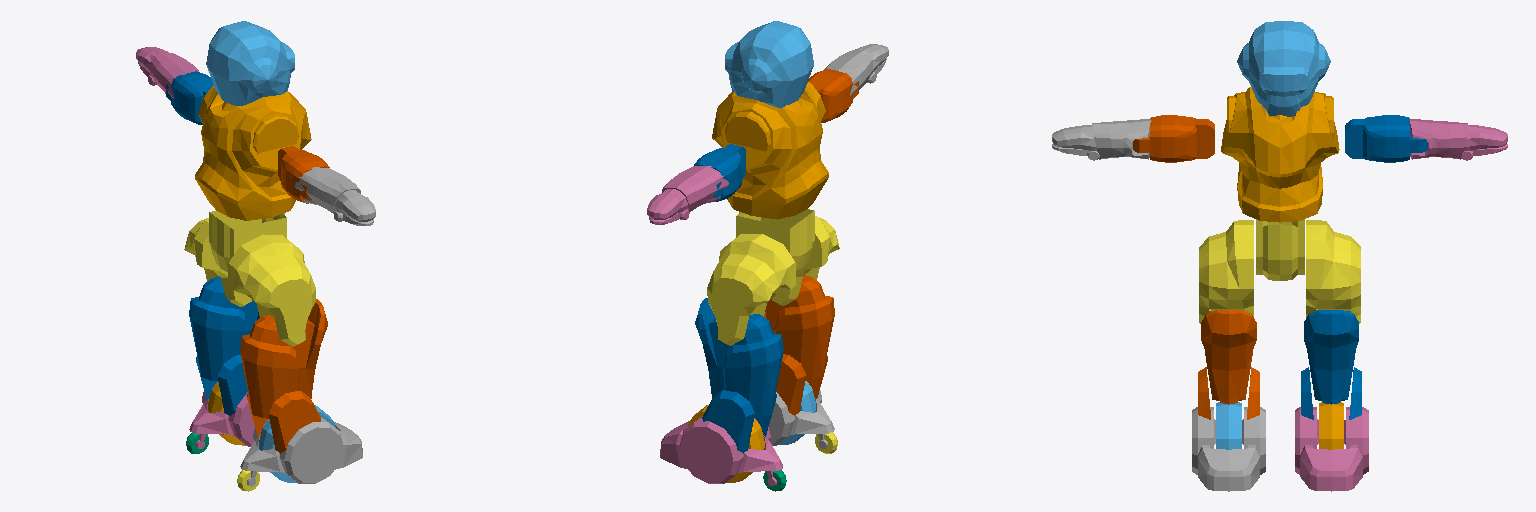
The robot description file, URDF, robot "servicebot":
<?xml version="1.0"?>
<robot name="servicebot">
  <!-- NOte: this doesnt follow REP 120 as this robot, while having a humanoid shape, will behave like a mobile base
-->
  <!--link name="base_link">
    <visual>
      <origin rpy="0 0 -1.5707963267948966" xyz="0 0 0"/>
      <geometry>
        <mesh filename="package://servicebot_description/meshes/servicebot.obj" scale="0.01 0.01 0.01" />
      </geometry>
    </visual>
  </link-->

  <!-- setting the base_link as the center of mass of the torso -->
  <link name="base_link">
    <visual>
      <geometry>
        <mesh filename="package://servicebot_description/meshes/Torso.obj" />
      </geometry>
    </visual>
    <collision>
      <origin rpy="0 0 0" xyz="0 0 -0.02"/>
      <geometry>
        <box size="0.32 0.3 0.32"/>
      </geometry>
    </collision>
    <collision>
      <origin rpy="0 0 0" xyz="0 0 0.18"/>
      <geometry>
        <cylinder radius="0.07" length="0.10"/>
      </geometry>
    </collision>
    <collision>
      <origin rpy="1.5707963267948966 0 0" xyz="-0.005 0.2 0.07"/>
      <geometry>
        <cylinder radius="0.1" length="0.10"/>
      </geometry>
    </collision>
    <collision>
      <origin rpy="1.5707963267948966 0 0" xyz="-0.005 -0.2 0.07"/>
      <geometry>
        <cylinder radius="0.1" length="0.10"/>
      </geometry>
    </collision>
    <inertial>
      <mass value="0.00001"/>
      <inertia ixx="1.0e-02" iyy="1.0e-06" izz="1.0e-06" ixy="0" ixz="0" iyz="0"/>
    </inertial>
  </link>

  <!--joint name="torso_fixedjoint" type="fixed">
    <axis xyz="0 0 1"/>
    <parent link="base_link"/>
    <child link="torso_link"/>
    <origin rpy="0 0 0" xyz="0 0.00486918 0.832498"/>
  </joint-->

  <link name="head_link">
    <visual>
      <geometry>
        <mesh filename="package://servicebot_description/meshes/Head.obj" />
      </geometry>
    </visual>
    <collision>
      <origin rpy="0 0 0" xyz="0.01 0 0"/>
      <geometry>
        <sphere radius="0.13"/>
      </geometry>
    </collision>
    <inertial>
      <mass value="0.5"/>
      <inertia ixx="0.00338" iyy="0.00338" izz="0.00338" ixy="0" ixz="0.0" iyz="0"/>
      <!--
      <mass value="1.0"/>
      <inertia ixx="0.00760589" iyy="0.01" izz="0.00760589" ixy="0" ixz="0.00649234" iyz="0"/>
      -->
      <!--mass value="0.5"/>
      <inertia ixx="0.00338" iyy="0.0" izz="0.00338" ixy="0" ixz="0.00338" iyz="0"/-->
    </inertial>
  </link>

  <joint name="head_tilt_joint" type="revolute">
    <axis xyz="0 -1 0"/>
    <parent link="head_pan_link"/>
    <child link="head_link"/>
    <origin rpy="0 0 0" xyz="0 0 0"/>
    <limit effort="30" velocity="1.0" lower="-0.7853981633974483" upper="0.7853981633974483" />
  </joint>

  <link name="head_pan_link">
    <!--inertial>
      <mass value="1.0"/>
      <inertia ixx="0.00760589" iyy="0.01" izz="0.00760589" ixy="0" ixz="0.00649234" iyz="0"/>
    </inertial-->
    <inertial>
      <mass value="0.5"/>
      <!-- box model -->
      <!--inertia ixx="0.0046" iyy="0.0" izz="0.0046" ixy="0" ixz="0.0046" iyz="0"/-->
      <!-- sphere model -->
      <inertia ixx="0.00338" iyy="0.00338" izz="0.00338" ixy="0" ixz="0.0" iyz="0"/>
      <!--mass value="1.0"/>
      <inertia ixx="0.00760589" iyy="0.01" izz="0.00760589" ixy="0" ixz="0.00649234" iyz="0"/-->
    </inertial>
    <!--inertial>
      <mass value="0.0001"/>
      <inertia ixx="1.0e-06" iyy="1.0e-06" izz="1.0e-06" ixy="0" ixz="0" iyz="0"/>
    </inertial-->
  </link>

  <joint name="head_pan_joint" type="revolute">
    <axis xyz="0 0 -1"/>
    <parent link="base_link"/>
    <child link="head_pan_link"/>
    <origin rpy="0 0 0" xyz="0 0.009 0.250" />
    <limit effort="30" velocity="1.0" lower="-1.5707963267948966" upper="1.5707963267948966" />
  </joint>

  <link name="pelvis_link">
    <visual>
      <geometry>
        <mesh filename="package://servicebot_description/meshes/Pelvis.obj" />
      </geometry>
    </visual>
    <collision>
      <origin rpy="0 0 0" xyz="0 0 0.05"/>
      <geometry>
        <cylinder radius="0.11" length="0.20"/>
      </geometry>
    </collision>
    <collision>
      <origin rpy="0 0 0" xyz="0 0.12 -0.02"/>
      <geometry>
        <cylinder radius="0.12" length="0.26"/>
      </geometry>
    </collision>
    <collision>
      <origin rpy="0 0 0" xyz="0 -0.12 -0.02"/>
      <geometry>
        <cylinder radius="0.12" length="0.26"/>
      </geometry>
    </collision>
    <inertial>
      <mass value="0.001"/>
      <inertia ixx="1.0e-02" iyy="1.0e-06" izz="1.0e-06" ixy="0" ixz="0" iyz="0"/>
    </inertial>
  </link>

  <joint name="pelvis_fixedjoint" type="fixed">
    <parent link="base_link"/>
    <child link="pelvis_link"/>
    <origin rpy="0 0 0" xyz="0 0.00 -0.286"/>
  </joint>

  <link name="left_upper_leg_link">
    <visual>
      <geometry>
        <mesh filename="package://servicebot_description/meshes/Calf_Left.obj" />
      </geometry>
    </visual>
    <collision>
      <origin rpy="0 0 0" xyz="0 0 0.03"/>
      <geometry>
        <cylinder radius="0.12" length="0.3"/>
      </geometry>
    </collision>
    <inertial>
      <mass value="0.001"/>
      <inertia ixx="1.0e-02" iyy="1.0e-06" izz="1.0e-06" ixy="0" ixz="0" iyz="0"/>
    </inertial>
  </link>

  <joint name="left_upper_leg_fixedjoint" type="fixed">
    <parent link="pelvis_link"/>
    <child link="left_upper_leg_link"/>
    <origin rpy="0 0 0" xyz="0.019 0.125 -0.256"/>
  </joint>


  <link name="right_upper_leg_link">
    <visual>
      <geometry>
        <mesh filename="package://servicebot_description/meshes/Calf_Right.obj" />
      </geometry>
    </visual>
    <collision>
      <origin rpy="0 0 0" xyz="0 0 0.03"/>
      <geometry>
        <cylinder radius="0.12" length="0.3"/>
      </geometry>
    </collision>
    <inertial>
      <mass value="0.001"/>
      <inertia ixx="1.0e-02" iyy="1.0e-06" izz="1.0e-06" ixy="0" ixz="0" iyz="0"/>
    </inertial>
  </link>

  <joint name="right_upper_leg_fixedjoint" type="fixed">
    <parent link="pelvis_link"/>
    <child link="right_upper_leg_link"/>
    <origin rpy="0 0 0" xyz="0.019 -0.125 -0.256"/>
  </joint>


  <link name="left_foot_link">
    <visual>
      <origin rpy="0 0 0" xyz="0.015 0 -0.004"/>
      <geometry>
        <mesh filename="package://servicebot_description/meshes/CasterBracket_Left.obj" />
      </geometry>
    </visual>
    <collision>
      <geometry>
        <box size="0.35 0.2 0.15" />
      </geometry>
    </collision>
    <inertial>
      <mass value="0.001"/>
      <inertia ixx="1.0e-02" iyy="1.0e-06" izz="1.0e-06" ixy="0" ixz="0" iyz="0"/>
    </inertial>
  </link>

  <joint name="left_foot_fixedjoint" type="fixed">
    <parent link="left_upper_leg_link"/>
    <child link="left_foot_link"/>
    <origin rpy="0 0 0" xyz="0.041 0 -0.19"/>
  </joint>

  <link name="right_foot_link">
    <visual>
      <origin rpy="0 0 0" xyz="0.015 0 -0.004"/>
      <geometry>
        <mesh filename="package://servicebot_description/meshes/CasterBracket_Left.obj" />
      </geometry>
    </visual>
    <collision>
      <geometry>
        <box size="0.35 0.2 0.15" />
      </geometry>
    </collision>
    <inertial>
      <mass value="0.001"/>
      <inertia ixx="1.0e-02" iyy="1.0e-06" izz="1.0e-06" ixy="0" ixz="0" iyz="0"/>
    </inertial>
  </link>

  <joint name="right_foot_fixedjoint" type="fixed">
    <parent link="right_upper_leg_link"/>
    <child link="right_foot_link"/>
    <origin rpy="0 0 0" xyz="0.041 0 -0.19"/>
  </joint>

<!-- Wheels -->

  <link name="left_wheel_link">
    <visual>
      <geometry>
        <mesh filename="package://servicebot_description/meshes/Wheel_Left.obj" />
      </geometry>
    </visual>
    <collision>
      <geometry>
        <sphere radius="0.103"/>
      </geometry>
    </collision>
    <inertial>
      <mass value="0.3"/>
      <inertia iyy="0.00211023" izz="0.00142144" ixx="0.00142144" ixy="0" ixz="0" iyz="0"/>
    </inertial>
  </link>

  <joint name="left_wheel_joint" type="continuous">
    <axis xyz="0 1 0"/>
    <parent link="left_foot_link"/>
    <child link="left_wheel_link"/>
    <origin rpy="0 0 0" xyz="0 0 0"/>
  </joint>

  <link name="right_wheel_link">
    <visual>
      <geometry>
        <mesh filename="package://servicebot_description/meshes/Wheel_Left.obj" />
      </geometry>
    </visual>
    <collision>
      <geometry>
        <sphere radius="0.103"/>
      </geometry>
    </collision>
    <inertial>
      <mass value="0.3"/>
      <inertia iyy="0.00211023" izz="0.00142144" ixx="0.00142144" ixy="0" ixz="0" iyz="0"/>
    </inertial>
  </link>

  <joint name="right_wheel_joint" type="continuous">
    <axis xyz="0 1 0"/>
    <parent link="right_foot_link"/>
    <child link="right_wheel_link"/>
    <origin rpy="0 0 0" xyz="0 0 0"/>
  </joint>

  <link name="left_caster_wheel_link">
    <visual>
      <geometry>
        <mesh filename="package://servicebot_description/meshes/CasterWheel_Left.obj" />
      </geometry>
    </visual>
    <collision>
      <geometry>
        <sphere radius="0.032"/>
      </geometry>
    </collision>
    <inertial>
      <mass value="0.03"/>
      <inertia ixx="0.00001324" iyy="0.00001955" izz="0.00001304" ixy="0" ixz="0.0" iyz="0"/>
    </inertial>
  </link>

  <joint name="left_caster_wheel_joint" type="continuous">
    <axis xyz="0 1 0"/>
    <parent link="left_foot_link"/>
    <child link="left_caster_wheel_link"/>
    <origin rpy="0 0 0" xyz="-0.14 0 -0.066"/>
  </joint>

  <link name="right_caster_wheel_link">
    <visual>
      <geometry>
        <mesh filename="package://servicebot_description/meshes/CasterWheel_Left.obj" />
      </geometry>
    </visual>
    <collision>
      <geometry>
        <sphere radius="0.032"/>
      </geometry>
    </collision>
    <inertial>
      <mass value="0.03"/>
      <inertia ixx="0.00001324" iyy="0.00001955" izz="0.00001304" ixy="0" ixz="0.0" iyz="0"/>
    </inertial>
  </link>

  <joint name="right_caster_wheel_joint" type="continuous">
    <axis xyz="0 1 0"/>
    <parent link="right_foot_link"/>
    <child link="right_caster_wheel_link"/>
    <origin rpy="0 0 0" xyz="-0.14 0 -0.066"/>
  </joint>


<!-- Arms -->

  <link name="left_upper_arm_link">
    <visual>
      <geometry>
        <mesh filename="package://servicebot_description/meshes/UpperArm_Left.obj" />
      </geometry>
    </visual>
    <collision>
      <origin rpy="1.5707963267948966 0 0" xyz="0 0.02 0.0"/>
      <geometry>
        <cylinder radius="0.065" length="0.22"/>
      </geometry>
    </collision>
    <inertial>
      <mass value="0.001"/>
      <inertia ixx="1.0e-02" iyy="1.0e-06" izz="1.0e-06" ixy="0" ixz="0" iyz="0"/>
    </inertial>
  </link>

  <joint name="left_shoulder_fixedjoint" type="fixed">
    <parent link="base_link"/>
    <child link="left_upper_arm_link"/>
    <origin rpy="0 0 0" xyz="0 0.236 0.056"/>
  </joint>

  <link name="right_upper_arm_link">
    <visual>
      <origin rpy="0 0 3.14159265" xyz="0 0 0"/>
      <geometry>
        <mesh filename="package://servicebot_description/meshes/UpperArm_Left.obj" />
      </geometry>
    </visual>
    <collision>
      <origin rpy="1.5707963267948966 0 0" xyz="0 -0.02 0.0"/>
      <geometry>
        <cylinder radius="0.065" length="0.22"/>
      </geometry>
    </collision>
    <inertial>
      <mass value="0.001"/>
      <inertia ixx="1.0e-02" iyy="1.0e-06" izz="1.0e-06" ixy="0" ixz="0" iyz="0"/>
    </inertial>
  </link>

  <joint name="right_shoulder_fixedjoint" type="fixed">
    <parent link="base_link"/>
    <child link="right_upper_arm_link"/>
    <origin rpy="0 0 0" xyz="0 -0.236 0.056"/>
  </joint>


  <link name="left_forearm_link">
    <visual>
      <geometry>
        <mesh filename="package://servicebot_description/meshes/Forearm_Left.obj" />
      </geometry>
    </visual>
    <collision>
      <origin rpy="1.5707963267948966 0 0" xyz="0 0.0 0.0"/>
      <geometry>
        <cylinder radius="0.06" length="0.3"/>
      </geometry>
    </collision>
    <inertial>
      <mass value="0.001"/>
      <inertia ixx="1.0e-02" iyy="1.0e-06" izz="1.0e-06" ixy="0" ixz="0" iyz="0"/>
    </inertial>
  </link>

  <joint name="left_elbow_fixedjoint" type="fixed">
    <parent link="left_upper_arm_link"/>
    <child link="left_forearm_link"/>
    <origin rpy="0 0 0" xyz="0.006 0.179 0"/>
  </joint>

  <link name="right_forearm_link">
    <visual>
      <origin rpy="0 0 0" xyz="0 0 0"/>
      <geometry>
        <mesh filename="package://servicebot_description/meshes/Forearm_Right.obj" />
      </geometry>
    </visual>
    <collision>
      <origin rpy="1.5707963267948966 0 0" xyz="0 0.0 0.0"/>
      <geometry>
        <cylinder radius="0.06" length="0.3"/>
      </geometry>
    </collision>
    <inertial>
      <mass value="0.001"/>
      <inertia ixx="1.0e-02" iyy="1.0e-06" izz="1.0e-06" ixy="0" ixz="0" iyz="0"/>
    </inertial>
  </link>

  <joint name="right_elbow_fixedjoint" type="fixed">
    <parent link="right_upper_arm_link"/>
    <child link="right_forearm_link"/>
    <origin rpy="0 0 0" xyz="0.006 -0.179 0"/>
  </joint>


  <gazebo>
    <plugin name="differential_drive_controller" filename="libgazebo_ros_diff_drive.so">
      <legacyMode>false</legacyMode>
      <publishTf>true</publishTf>
      <publishWheelTF>true</publishWheelTF>
      <leftJoint>left_wheel_joint</leftJoint>
      <rightJoint>right_wheel_joint</rightJoint>
      <robotBaseFrame>base_link</robotBaseFrame>
      <wheelSeparation>0.25</wheelSeparation>
      <wheelDiameter>0.206</wheelDiameter>
      <publishWheelJointState>true</publishWheelJointState>
    </plugin>
  </gazebo>

  <gazebo reference="base_link">
    <mu1>0.5</mu1>
    <mu2>0.5</mu2>
    <selfCollide>false</selfCollide>
    <turnGravityOff>false</turnGravityOff>
  </gazebo>
  <gazebo reference="head_link">
    <mu1>0.5</mu1>
    <mu2>0.5</mu2>
    <selfCollide>false</selfCollide>
    <turnGravityOff>false</turnGravityOff>
  </gazebo>
  <gazebo reference="head_pan_link">
    <mu1>0.5</mu1>
    <mu2>0.5</mu2>
    <selfCollide>false</selfCollide>
    <turnGravityOff>false</turnGravityOff>
  </gazebo>
  <gazebo reference="pelvis_link">
    <mu1>0.5</mu1>
    <mu2>0.5</mu2>
    <selfCollide>false</selfCollide>
    <turnGravityOff>false</turnGravityOff>
  </gazebo>
  <gazebo reference="left_upper_leg_link">
    <mu1>0.5</mu1>
    <mu2>0.5</mu2>
    <selfCollide>false</selfCollide>
    <turnGravityOff>false</turnGravityOff>
  </gazebo>
  <gazebo reference="right_upper_leg_link">
    <mu1>0.5</mu1>
    <mu2>0.5</mu2>
    <selfCollide>false</selfCollide>
    <turnGravityOff>false</turnGravityOff>
  </gazebo>
  <gazebo reference="left_foot_link">
    <mu1>0.5</mu1>
    <mu2>0.5</mu2>
    <selfCollide>false</selfCollide>
    <turnGravityOff>false</turnGravityOff>
  </gazebo>
  <gazebo reference="right_foot_link">
    <mu1>0.5</mu1>
    <mu2>0.5</mu2>
    <selfCollide>false</selfCollide>
    <turnGravityOff>false</turnGravityOff>
  </gazebo>
  <gazebo reference="left_wheel_link">
    <mu1>0.5</mu1>
    <mu2>0.5</mu2>
    <selfCollide>false</selfCollide>
    <turnGravityOff>false</turnGravityOff>
  </gazebo>
  <gazebo reference="right_wheel_link">
    <mu1>0.5</mu1>
    <mu2>0.5</mu2>
    <selfCollide>false</selfCollide>
    <turnGravityOff>false</turnGravityOff>
  </gazebo>
  <gazebo reference="left_caster_wheel_link">
    <mu1>0.5</mu1>
    <mu2>0.5</mu2>
    <selfCollide>false</selfCollide>
    <turnGravityOff>false</turnGravityOff>
  </gazebo>
  <gazebo reference="right_caster_wheel_link">
    <mu1>0.5</mu1>
    <mu2>0.5</mu2>
    <selfCollide>false</selfCollide>
    <turnGravityOff>false</turnGravityOff>
  </gazebo>
  <gazebo reference="left_upper_arm_link">
    <mu1>0.5</mu1>
    <mu2>0.5</mu2>
    <selfCollide>false</selfCollide>
    <turnGravityOff>false</turnGravityOff>
  </gazebo>
  <gazebo reference="right_upper_arm_link">
    <mu1>0.5</mu1>
    <mu2>0.5</mu2>
    <selfCollide>false</selfCollide>
    <turnGravityOff>false</turnGravityOff>
  </gazebo>
  <gazebo reference="left_forearm_link">
    <mu1>0.5</mu1>
    <mu2>0.5</mu2>
    <selfCollide>false</selfCollide>
    <turnGravityOff>false</turnGravityOff>
  </gazebo>
  <gazebo reference="right_forearm_link">
    <mu1>0.5</mu1>
    <mu2>0.5</mu2>
    <selfCollide>false</selfCollide>
    <turnGravityOff>false</turnGravityOff>
  </gazebo>


<!-- Transmissions -->
<!--
	<transmission name="head_tilt_Transmission">
		<type>transmission_interface/SimpleTransmission</type>
		<joint name="head_tilt_joint">
        	<hardwareInterface>hardware_interface/PositionJointInterface</hardwareInterface>
		</joint>
        <actuator name="head_tilt_Motor">
			<hardwareInterface>hardware_interface/PositionJointInterface</hardwareInterface>
			<mechanicalReduction>1</mechanicalReduction>
		</actuator>
	</transmission>
	<transmission name="head_pan_Transmission">
		<type>transmission_interface/SimpleTransmission</type>
		<joint name="head_pan_joint">
        	<hardwareInterface>hardware_interface/PositionJointInterface</hardwareInterface>
		</joint>
        <actuator name="head_pan_Motor">
			<hardwareInterface>hardware_interface/PositionJointInterface</hardwareInterface>
			<mechanicalReduction>1</mechanicalReduction>
		</actuator>
	</transmission>
-->
<!--
  <gazebo>
     <plugin filename="libgazebo_ros_control.so" name="gazebo_ros_control">
         <robotNamespace></robotNamespace>
         <robotSimType>gazebo_ros_control/DefaultRobotHWSim</robotSimType>
     </plugin>
  </gazebo>
-->
<!-- Tortoisebot model -->
<!--
  <gazebo>
    <plugin name="differential_drive_controller" filename="libgazebo_ros_diff_drive.so">
      <leftJoint>left_wheel_joint</leftJoint>
      <rightJoint>right_wheel_joint</rightJoint>
      <robotBaseFrame>base_link</robotBaseFrame>
      <wheelSeparation>0.25</wheelSeparation>
      <wheelDiameter>0.07</wheelDiameter>
      <publishWheelJointState>true</publishWheelJointState>
    </plugin>
  </gazebo>
-->
</robot>

--- What the picture shows (computed from the rendered views, not written in the file) ---
Views: 3 orthographic renders of the robot side by side, from view 1: azimuth 30°, elevation 25°; view 2: azimuth 150°, elevation 25°; view 3: azimuth 270°, elevation 25°.
Robot: servicebot — 16 links, 15 joints (2 revolute, 4 continuous, 9 fixed); root link base_link; default pose: every joint at zero.
Visible links, largest first — view 1: base_link, pelvis_link, right_upper_leg_link, head_link, left_upper_leg_link, right_foot_link, right_forearm_link, left_foot_link, left_forearm_link, left_upper_arm_link, right_upper_arm_link, right_wheel_link; view 2: base_link, pelvis_link, left_upper_leg_link, head_link, right_upper_leg_link, left_foot_link, left_forearm_link, right_foot_link, right_forearm_link, right_upper_arm_link, left_upper_arm_link, left_wheel_link; view 3: pelvis_link, base_link, head_link, right_upper_leg_link, left_upper_leg_link, left_foot_link, right_foot_link, left_upper_arm_link, right_upper_arm_link, right_forearm_link, left_forearm_link, right_wheel_link (+1 smaller).
Link boxes in pixels (<box>): base_link: <box>195,85,311,220</box>; pelvis_link: <box>184,211,315,346</box>; right_upper_leg_link: <box>240,299,327,453</box>; head_link: <box>206,21,294,105</box>; left_upper_leg_link: <box>189,276,259,415</box>; right_foot_link: <box>240,417,362,486</box>; right_forearm_link: <box>291,167,375,225</box>; left_foot_link: <box>189,381,254,448</box>; left_forearm_link: <box>136,47,198,100</box>; left_upper_arm_link: <box>166,71,213,124</box>; right_upper_arm_link: <box>278,146,329,203</box>; right_wheel_link: <box>259,405,335,482</box>; base_link: <box>712,82,828,219</box>; pelvis_link: <box>707,209,839,345</box>; left_upper_leg_link: <box>695,298,783,453</box>; head_link: <box>725,21,813,108</box>; right_upper_leg_link: <box>764,275,834,415</box>; left_foot_link: <box>660,416,782,486</box>; left_forearm_link: <box>647,166,728,224</box>; right_foot_link: <box>769,381,834,448</box>; right_forearm_link: <box>824,44,888,98</box>; right_upper_arm_link: <box>808,69,858,122</box>; left_upper_arm_link: <box>694,144,745,201</box>; left_wheel_link: <box>688,405,764,482</box>; pelvis_link: <box>1199,219,1360,323</box>; base_link: <box>1221,87,1339,222</box>; head_link: <box>1237,21,1330,116</box>; right_upper_leg_link: <box>1198,310,1259,419</box>; left_upper_leg_link: <box>1301,310,1361,419</box>; left_foot_link: <box>1295,407,1368,491</box>; right_foot_link: <box>1192,407,1265,491</box>; left_upper_arm_link: <box>1345,115,1427,162</box>; right_upper_arm_link: <box>1133,115,1214,162</box>; right_forearm_link: <box>1052,119,1151,160</box>; left_forearm_link: <box>1408,119,1507,160</box>; right_wheel_link: <box>1216,402,1241,449</box>.
Bounding box of the posed robot: 0.3667 × 1.11 × 1.19 m (x, y, z).
15 mesh visuals loaded from 11 distinct referenced files (11 OBJ).